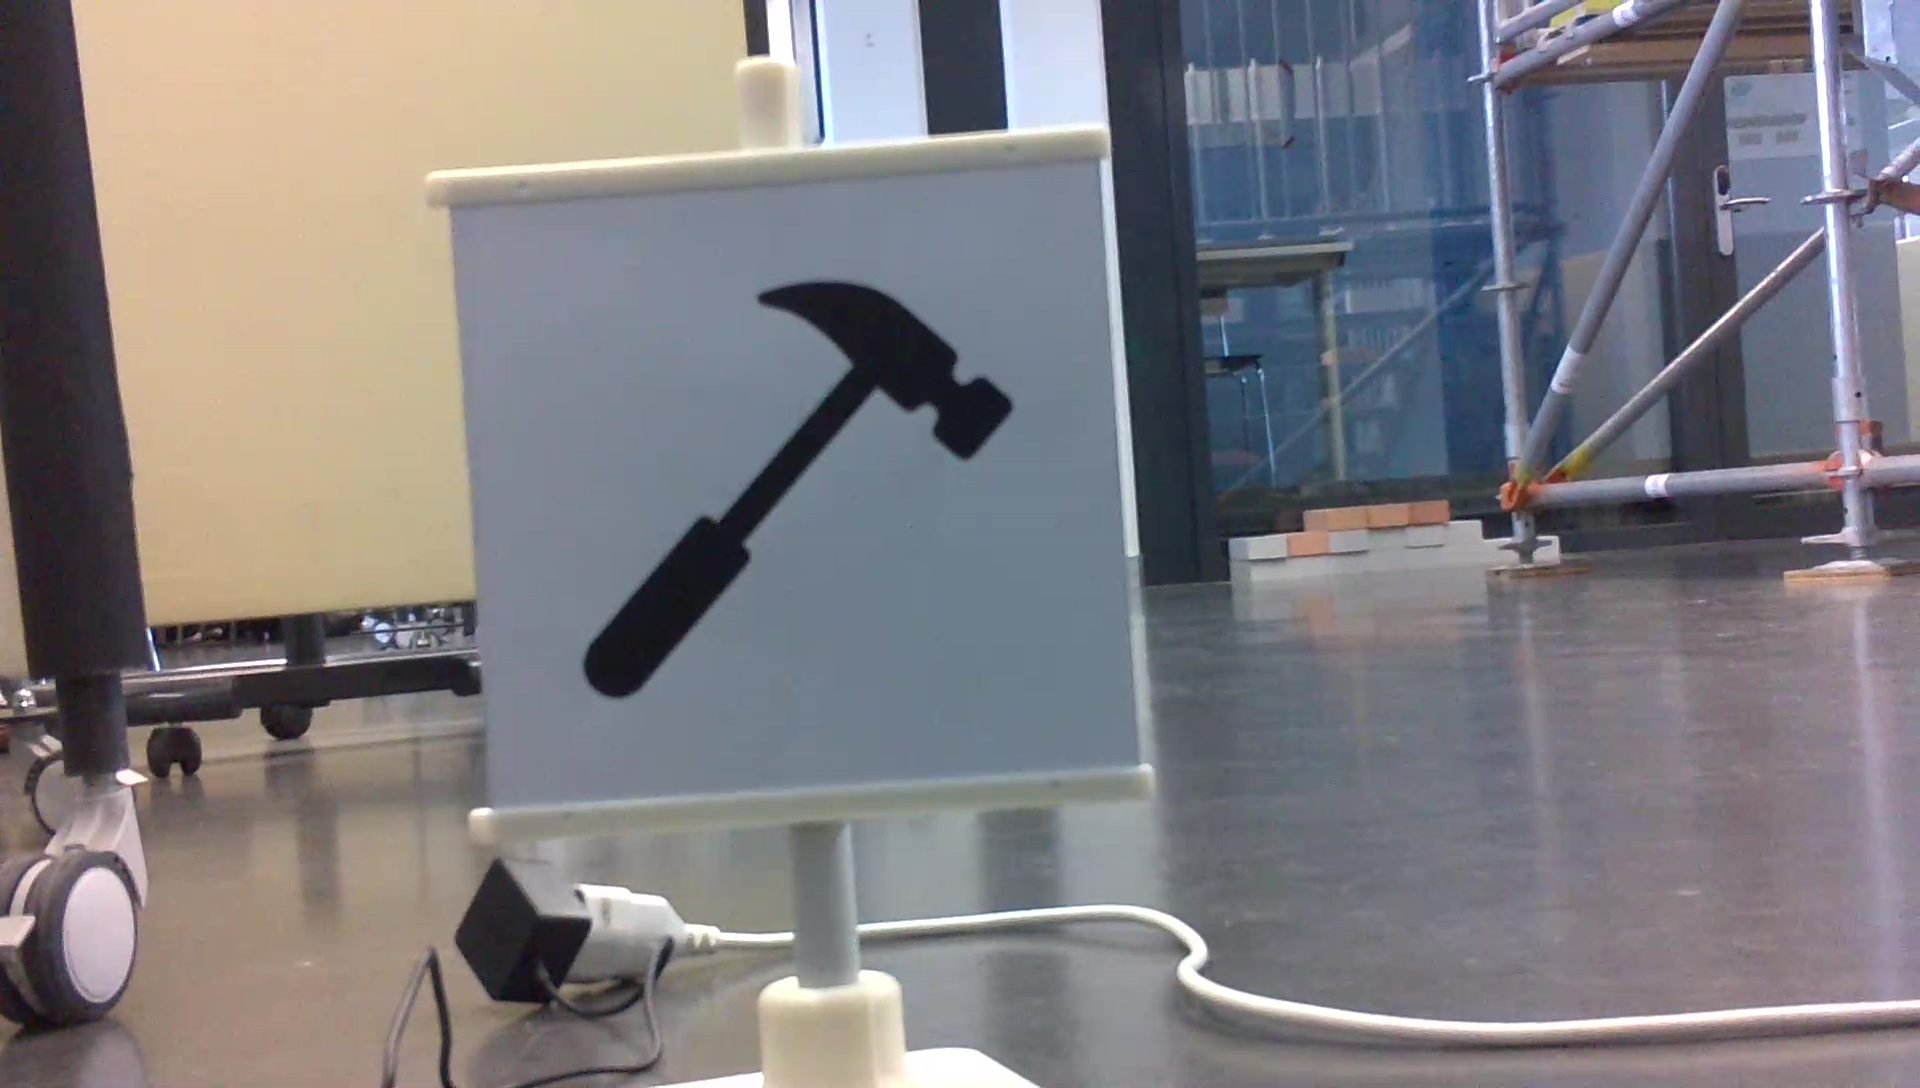hammer: (575, 273, 1021, 706)
